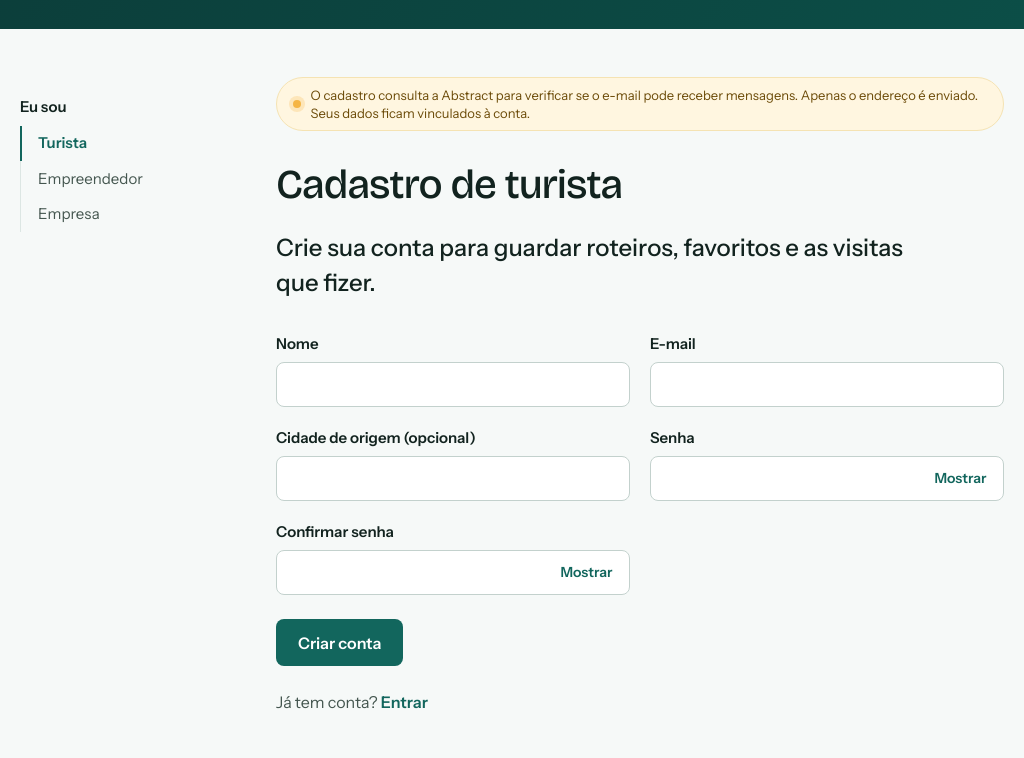
Test: Tela de Cadastro › recusa senhas diferentes
(page scrolled)
In the field labelled "Nome": (453,384) [276,362,630,407], type "Maria Lima"
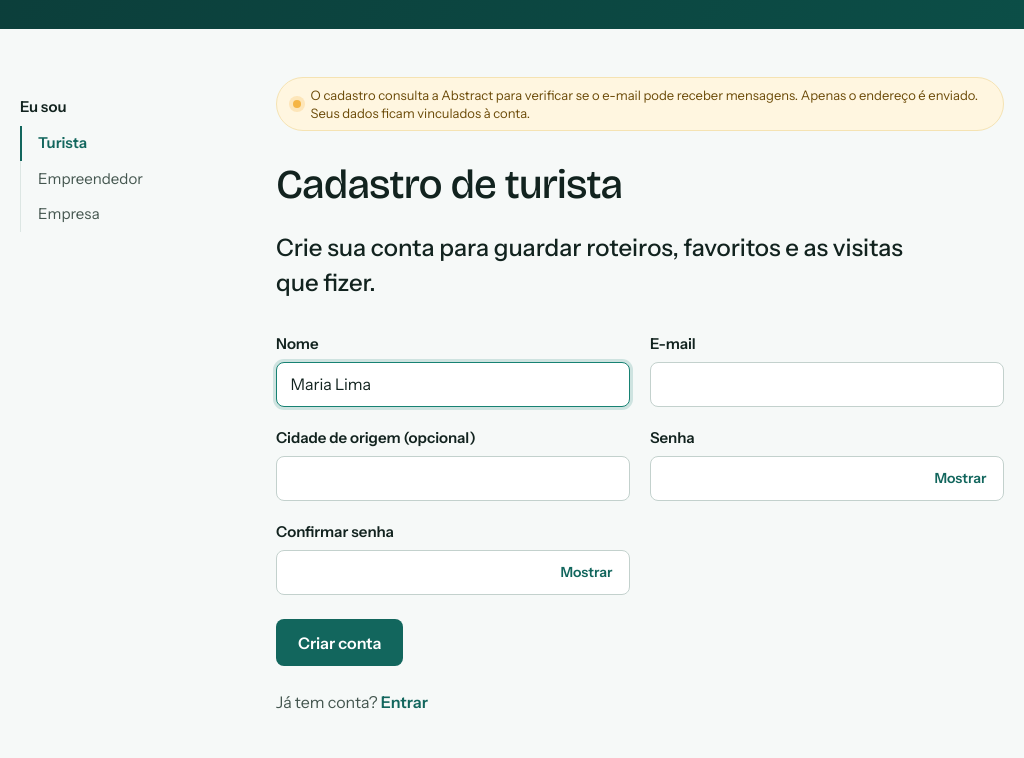
In the field labelled "E-mail": (827,384) [650,362,1004,407], type "maria@exemplo.com"
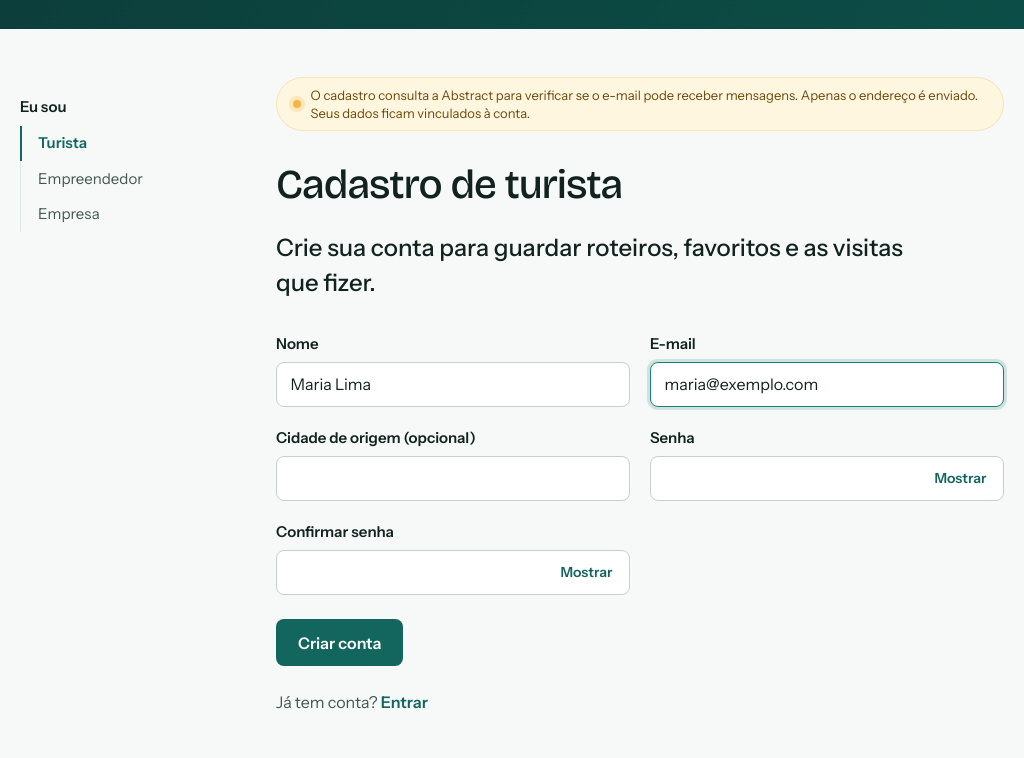
In the password field labelled "Senha": (827,478) [650,456,1004,501], type "Segredo1!"
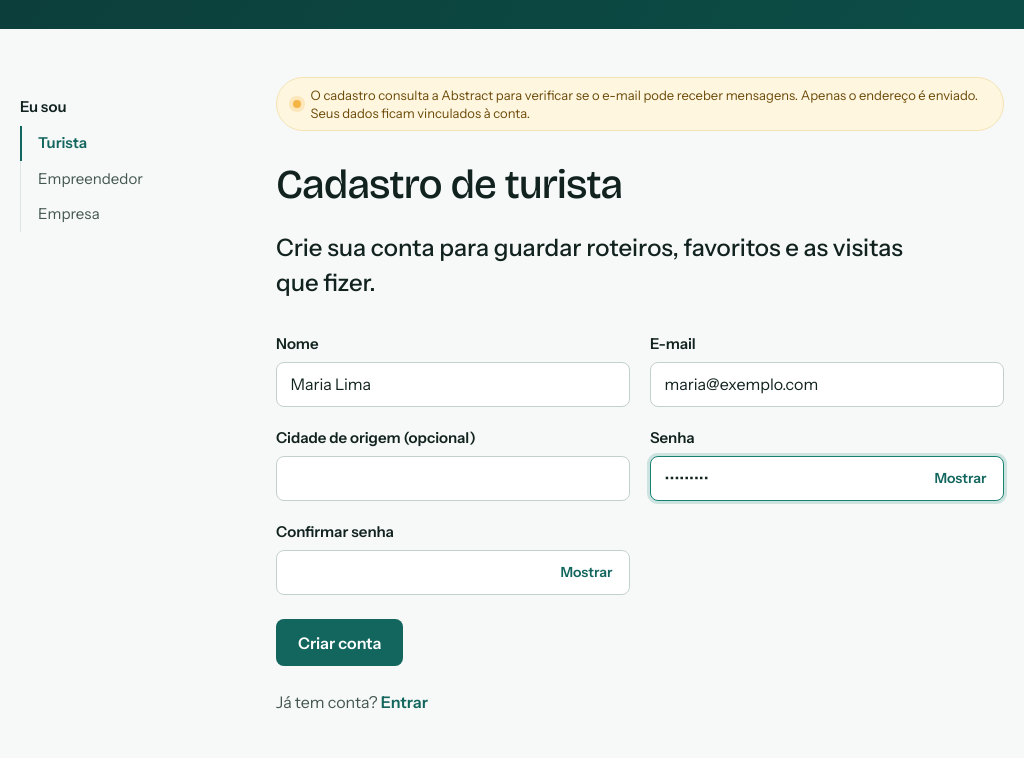
In the password field labelled "Confirmar senha": (453,572) [276,550,630,595], type "Segredo2!"
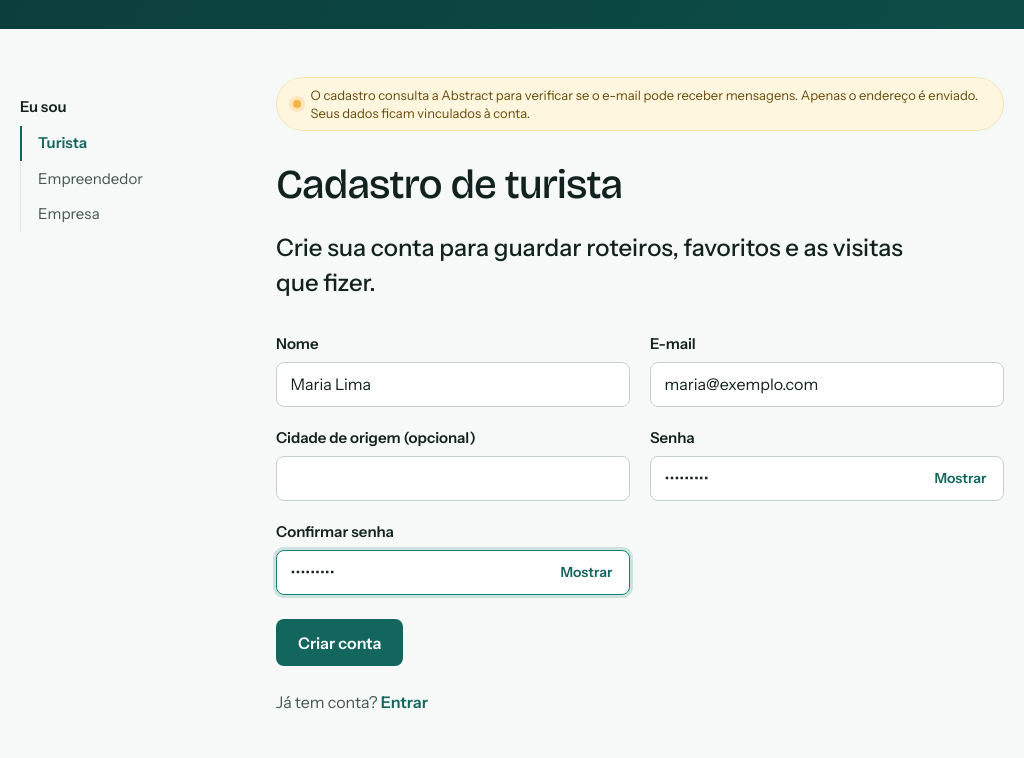
Click the button "Criar conta": (340,643) [276,619,404,666]
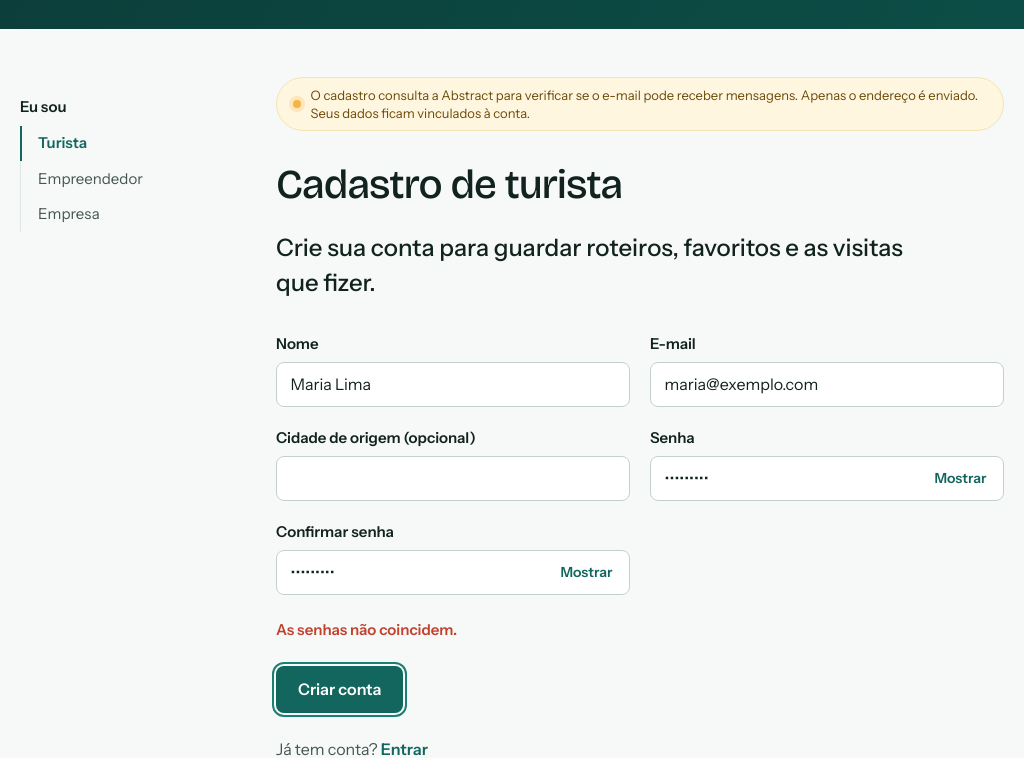
Expected: the message shows "não coincidem", [276,620,457,639]
